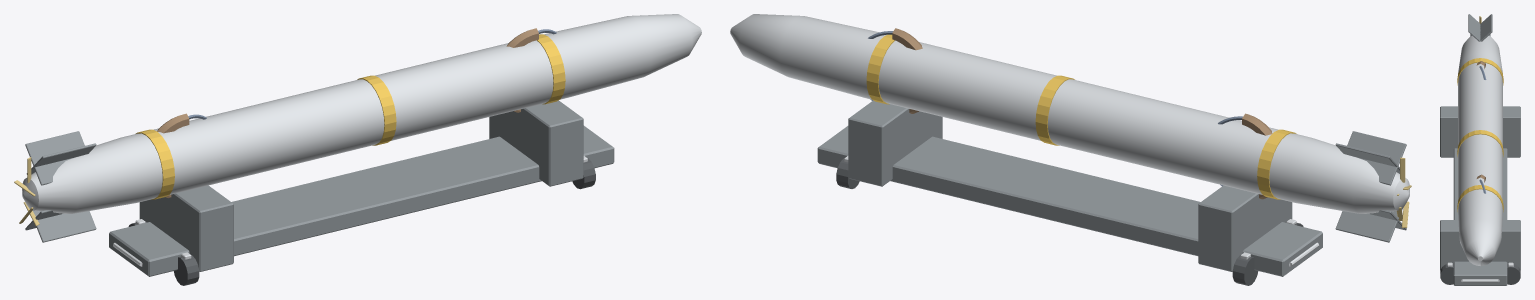
The model's file is submarine-interior-and-control-room-torpedo-on-loading-f40aecaa__36497.glb.
3 renders of one model, left to right at view 1: azimuth 30°, elevation 25°; view 2: azimuth 150°, elevation 25°; view 3: azimuth 270°, elevation 25°, orthographic. The views are drawn at different scales.
Parts seen in each view (by area): view 1: torpedo-on-loading-cradle; view 2: torpedo-on-loading-cradle; view 3: torpedo-on-loading-cradle.
Boxes of the visible parts, <box> form: torpedo-on-loading-cradle: <box>14,14,701,285</box>; torpedo-on-loading-cradle: <box>730,14,1411,285</box>; torpedo-on-loading-cradle: <box>1440,14,1520,285</box>.
Bounding box in the file's own units: 5.84 × 1.21 × 0.9001.
